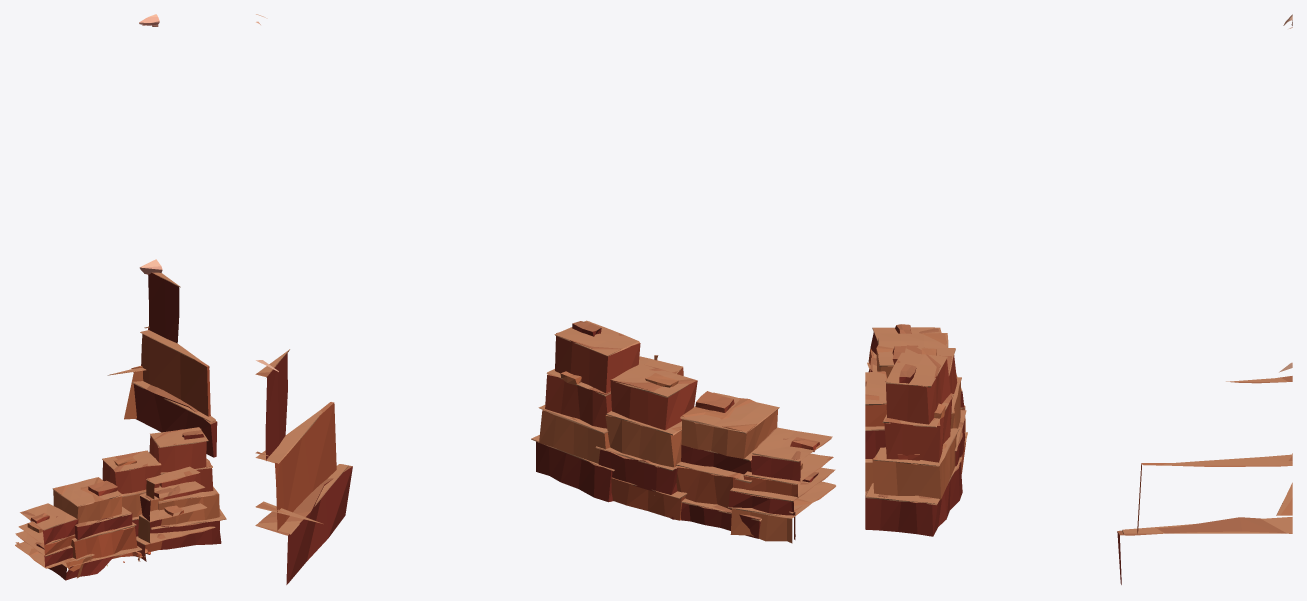
3 views of the same model, side by side, from view 1: azimuth 30°, elevation 25°; view 2: azimuth 150°, elevation 25°; view 3: azimuth 270°, elevation 25° (orthographic). The views are drawn at different scales.
Visible parts, largest first — view 1: scene.4.1 (×2); view 2: scene.4.1; view 3: scene.4.1.
Part boxes in pixels (x1,y1,x2,y2): scene.4.1 (×2): [15, 14, 226, 580]; scene.4.1: [255, 320, 835, 584]; scene.4.1: [865, 324, 1292, 584].
Size of the model in its own units: 62.5 by 91.55 by 62.5.
